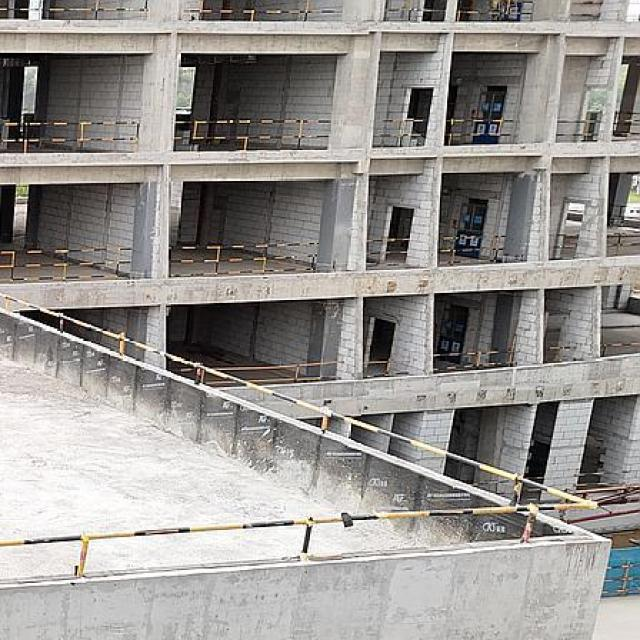Guardrail: (0, 288, 597, 578), (168, 242, 319, 277), (174, 119, 330, 151), (0, 122, 140, 154), (0, 247, 133, 280), (183, 0, 343, 21), (209, 359, 345, 382), (0, 0, 150, 19), (438, 235, 508, 265), (433, 348, 520, 372), (444, 116, 514, 145), (456, 0, 532, 21), (373, 119, 428, 147), (601, 560, 640, 594), (385, 0, 445, 21), (363, 359, 410, 378), (575, 470, 628, 486), (367, 239, 419, 254), (556, 120, 603, 136), (613, 110, 640, 136), (474, 479, 512, 495), (600, 342, 640, 357), (607, 233, 640, 250), (570, 0, 603, 16), (544, 347, 576, 362), (548, 233, 578, 248), (611, 203, 640, 218), (524, 477, 544, 492), (169, 368, 194, 372), (205, 380, 238, 383)
